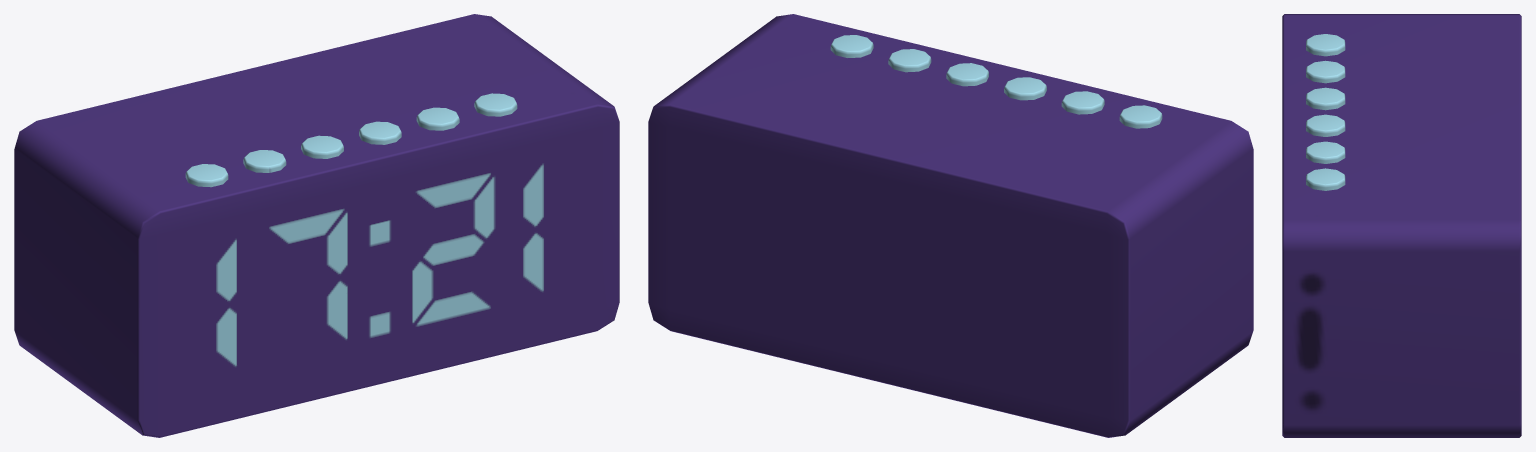
File: Orologio.fbx
3 renders of one model, left to right at view 1: azimuth 30°, elevation 25°; view 2: azimuth 150°, elevation 25°; view 3: azimuth 270°, elevation 25°, orthographic. The views are drawn at different scales.
Visible parts, largest first — view 1: pCylinder7; view 2: pCylinder7; view 3: pCylinder7.
Part boxes in pixels (x1,y1,x2,y2): pCylinder7: (14, 14, 619, 437); pCylinder7: (648, 14, 1253, 437); pCylinder7: (1282, 14, 1521, 437).
Bounding box in the file's own units: 1.67 × 0.7722 × 0.7512.
Materials: 1 (1 with a texture image).
